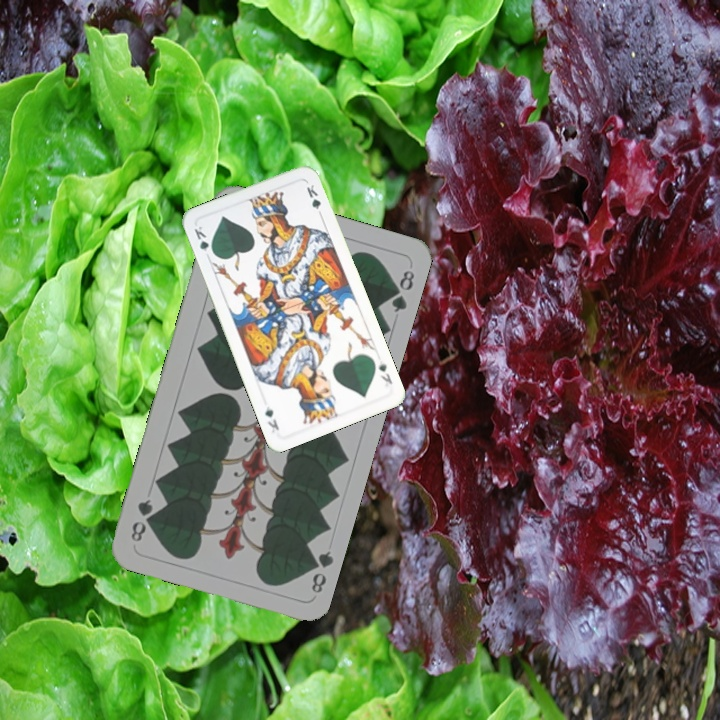G8: (303, 546, 336, 596)
GK: (190, 222, 217, 258), (374, 356, 395, 387)
